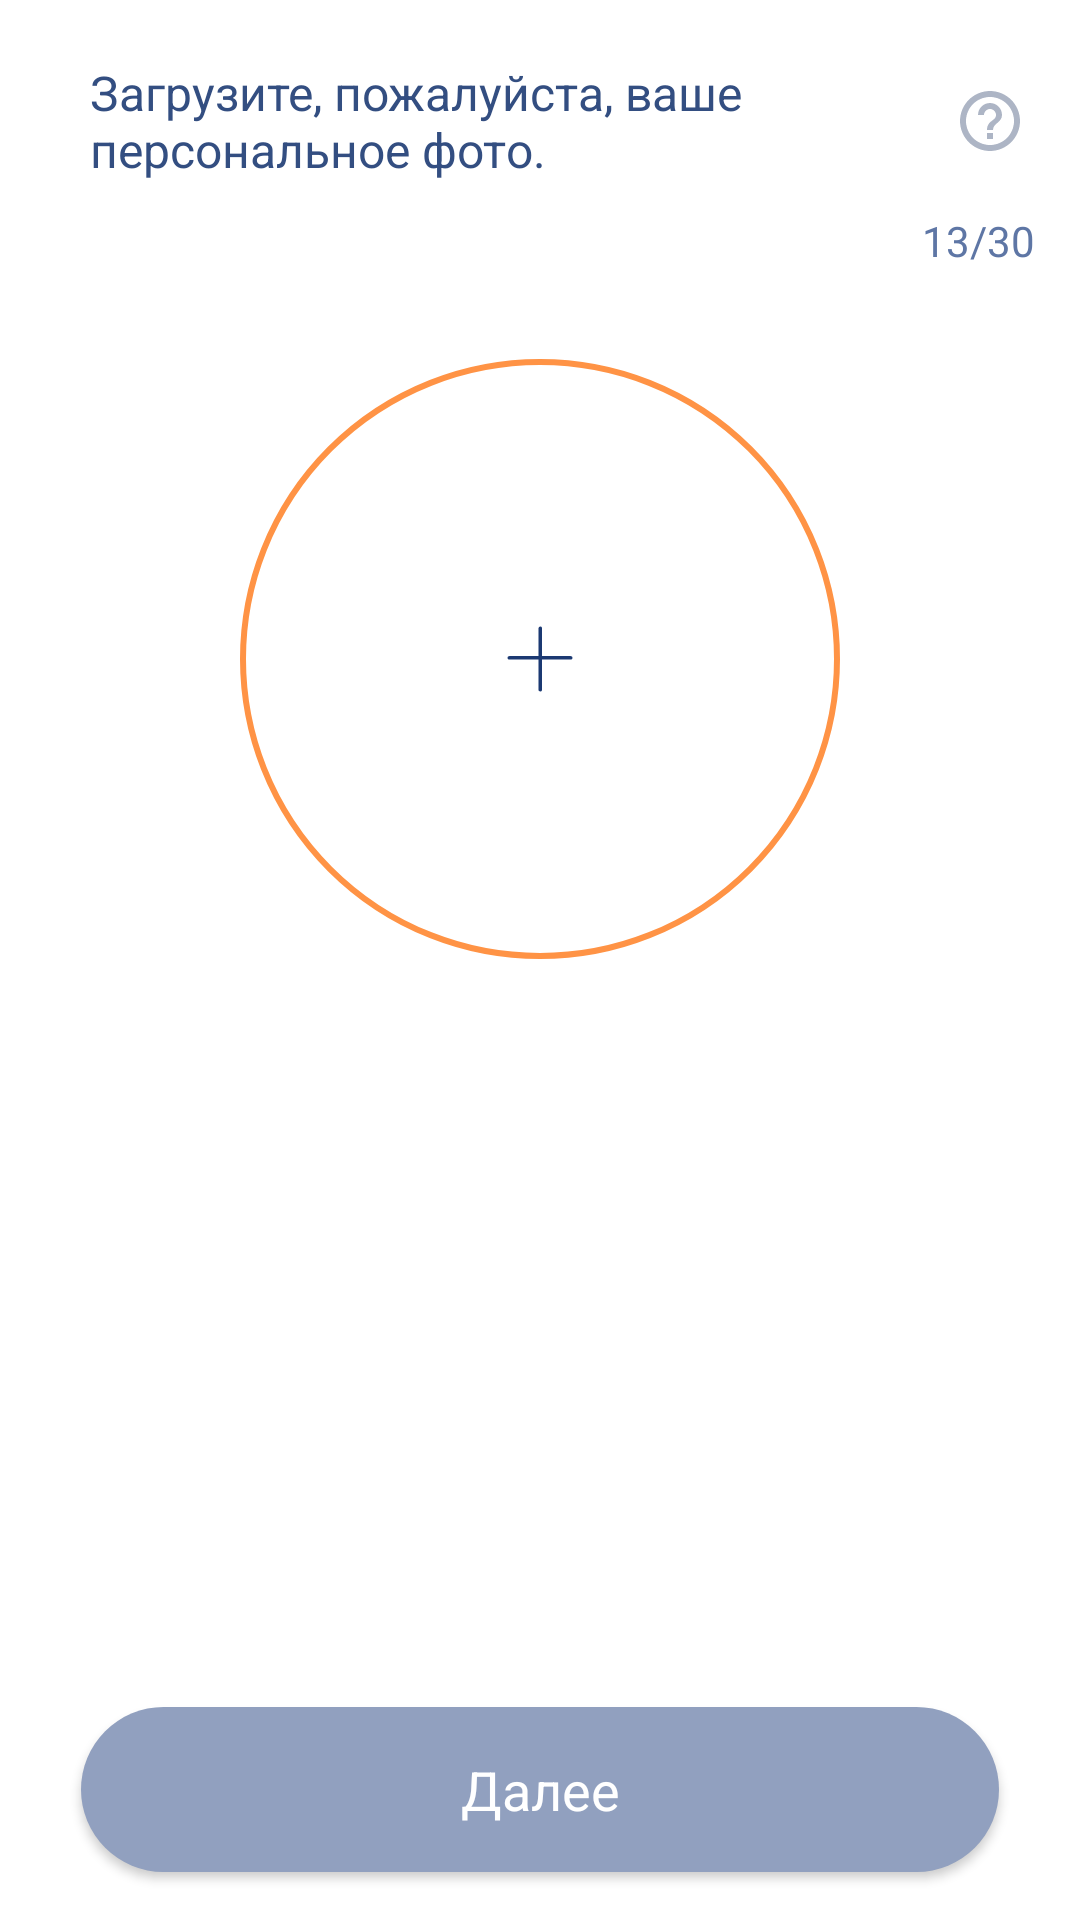

Locate icon controls on the screen. Image size 1080*1920, boxes as [x1=x1, y1=y1, x2=x2, y2=y2].
add: [x1=507, y1=626, x2=573, y2=692]
help: [x1=960, y1=91, x2=1020, y2=151]
